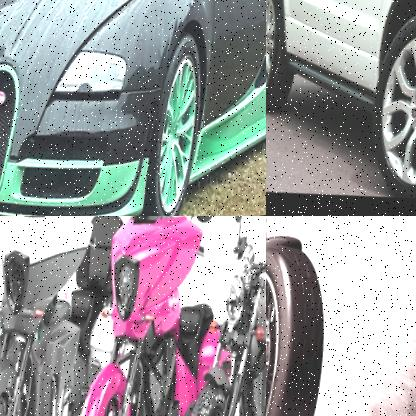bike: (37, 216, 227, 416), (0, 216, 129, 416), (149, 223, 266, 416), (266, 216, 353, 416)
car: (266, 0, 416, 216)
